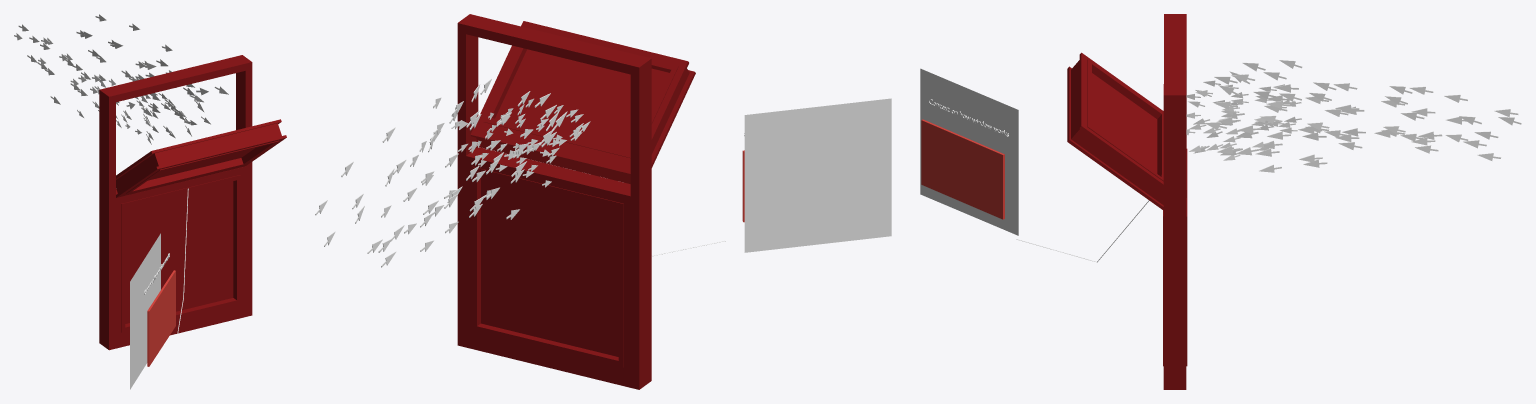
The model's file is window_summer.gltf.
3 views of the same model, side by side, from view 1: azimuth 30°, elevation 25°; view 2: azimuth 150°, elevation 25°; view 3: azimuth 270°, elevation 25° (orthographic). The views are drawn at different scales.
Parts seen in each view (by area): view 1: window, Plane.003, arrow_longer, Cube.004, arrows; view 2: window, Plane.003, arrow_longer, arrows; view 3: window, Plane.003, arrow_longer, Cube.004, arrows.
Part boxes in pixels (box(x1,y1,x2,y2)): window: box(99, 55, 286, 350); Plane.003: box(130, 233, 160, 389); arrow_longer: box(14, 14, 229, 126); Cube.004: box(147, 270, 175, 366); arrows: box(77, 89, 211, 144); window: box(457, 14, 695, 389); Plane.003: box(744, 98, 891, 252); arrow_longer: box(315, 79, 567, 267); arrows: box(451, 98, 590, 187); window: box(1067, 14, 1187, 389); Plane.003: box(920, 68, 1018, 235); arrow_longer: box(1204, 60, 1521, 172); Cube.004: box(921, 119, 1004, 219); arrows: box(1186, 74, 1301, 160).
Size of the model in its own units: 1.75 by 1.87 by 3.46.
